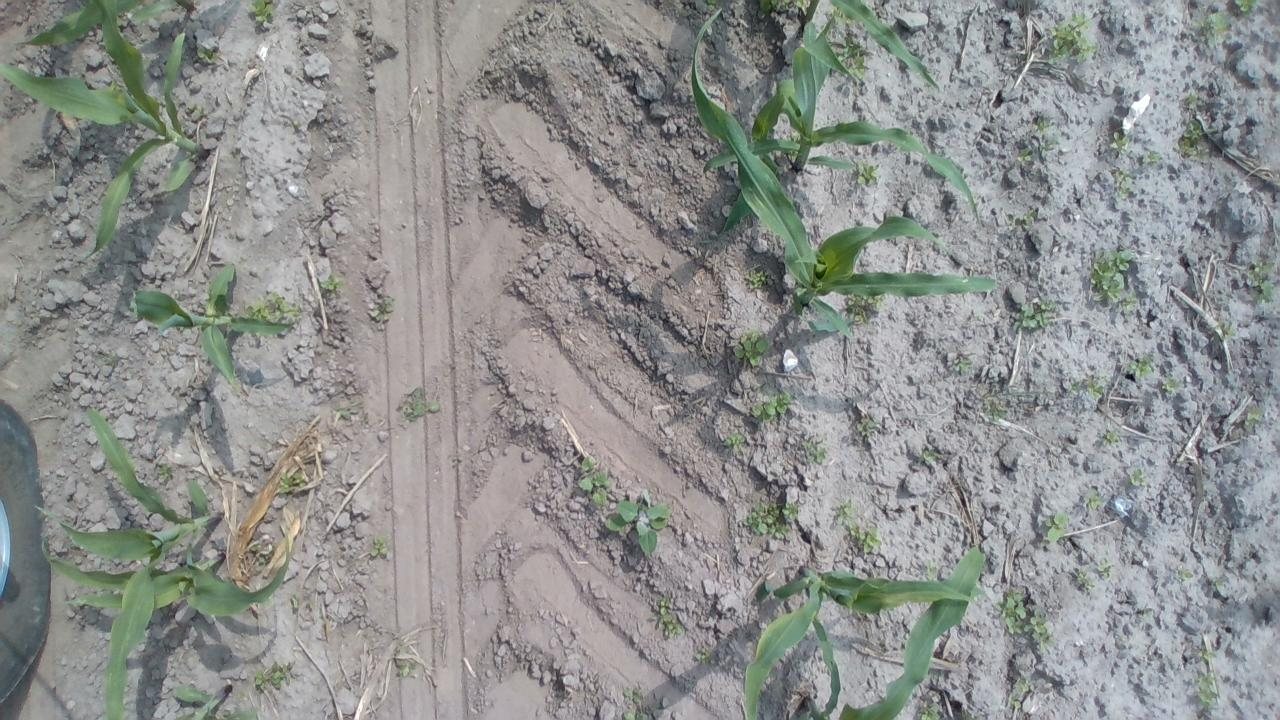Maize: (689, 6, 1003, 336), (701, 15, 984, 245), (36, 406, 234, 720), (2, 3, 210, 259), (744, 560, 978, 720), (806, 544, 985, 720), (38, 536, 294, 620), (130, 262, 292, 392), (796, 0, 941, 91), (15, 0, 197, 47), (170, 682, 260, 720)
Weeds: (602, 486, 672, 560), (981, 381, 1048, 422), (1048, 10, 1098, 64), (737, 499, 800, 540), (1087, 249, 1134, 302), (1178, 118, 1222, 164), (396, 385, 440, 429), (1022, 604, 1059, 654), (994, 587, 1028, 640), (651, 589, 685, 638), (578, 454, 610, 506), (245, 292, 302, 320), (730, 328, 769, 368), (1246, 258, 1278, 306), (1012, 299, 1058, 332), (832, 34, 866, 77), (1060, 369, 1110, 398), (750, 390, 790, 424), (1194, 12, 1230, 49), (848, 521, 886, 556), (255, 660, 296, 690), (1191, 666, 1219, 708), (801, 432, 831, 467), (1044, 508, 1071, 544), (1208, 316, 1240, 345), (829, 498, 862, 526), (1121, 354, 1158, 378), (367, 294, 396, 324), (1113, 166, 1136, 202), (758, 0, 804, 18), (330, 395, 364, 419), (744, 264, 773, 290), (856, 159, 880, 188), (247, 0, 276, 24), (1006, 208, 1040, 228), (1080, 484, 1106, 510), (1124, 465, 1150, 490), (620, 703, 658, 720), (278, 471, 306, 494), (1073, 566, 1097, 592), (320, 273, 344, 299), (193, 44, 221, 66), (952, 352, 976, 376), (722, 430, 747, 453), (917, 697, 942, 720), (853, 416, 879, 438), (1032, 115, 1058, 136), (1040, 134, 1062, 158), (1244, 403, 1266, 426), (1161, 376, 1185, 397), (914, 447, 942, 465), (622, 684, 648, 702), (1120, 291, 1140, 314), (1095, 556, 1115, 579), (1110, 131, 1128, 156), (864, 294, 888, 312), (1102, 426, 1122, 447), (369, 536, 388, 558), (1015, 669, 1031, 694), (396, 659, 416, 678), (1234, 0, 1261, 14), (849, 306, 868, 325), (1176, 564, 1196, 582), (1016, 146, 1032, 168), (921, 560, 938, 580), (1198, 645, 1218, 662), (830, 8, 851, 24), (187, 102, 203, 122), (1142, 150, 1160, 166), (1008, 692, 1023, 710), (1212, 574, 1226, 593), (104, 352, 120, 368), (960, 703, 975, 720), (288, 592, 302, 610), (696, 646, 710, 663), (846, 292, 861, 307), (158, 464, 172, 478), (1138, 606, 1154, 618), (304, 595, 316, 610), (1186, 91, 1199, 104), (116, 16, 130, 28), (451, 456, 464, 468), (970, 312, 984, 323), (359, 412, 369, 426), (707, 0, 718, 11), (258, 556, 270, 566), (249, 544, 263, 552), (396, 645, 408, 653), (237, 690, 246, 700), (292, 120, 304, 127), (1006, 0, 1016, 8)
